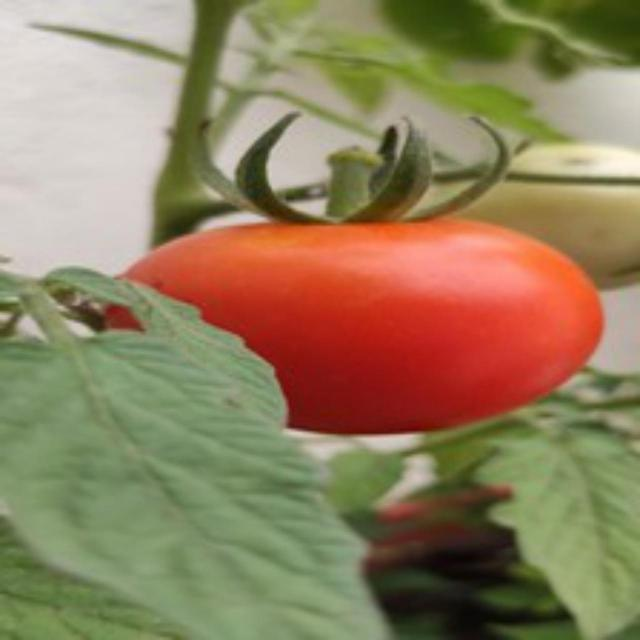tomato: (109, 191, 622, 449)
